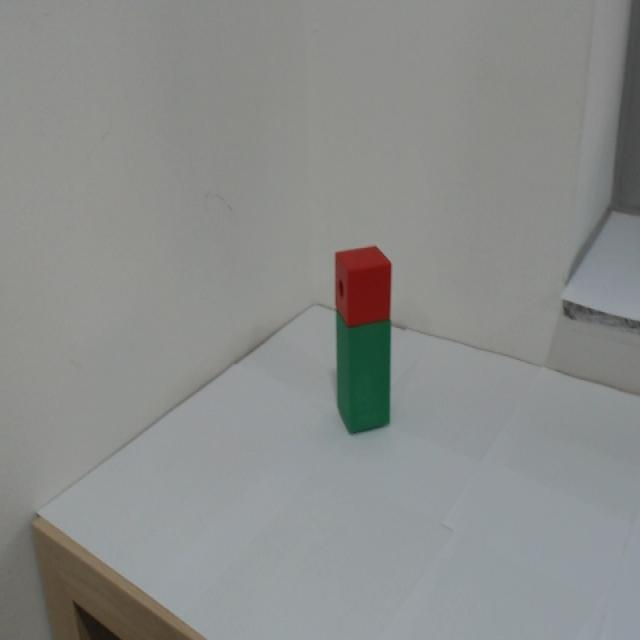cube: (324, 242, 388, 327)
